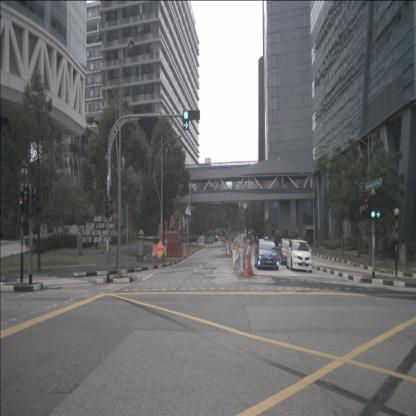human-pedestrian-adult: (255, 236, 259, 246), (249, 234, 252, 246), (244, 235, 247, 246), (252, 234, 255, 245)
movable_object-barrier: (233, 246, 245, 277), (244, 246, 253, 276), (167, 244, 182, 258), (178, 244, 186, 256), (233, 240, 238, 259), (180, 243, 187, 255), (183, 243, 186, 256), (198, 241, 204, 246), (223, 237, 227, 242), (196, 241, 199, 246), (220, 237, 223, 241)
movable_object-trafficcone: (244, 256, 249, 277), (228, 246, 232, 259)
vehicle-car: (287, 239, 313, 273), (255, 238, 280, 270), (278, 237, 297, 265), (214, 235, 219, 242)
vehicle-truck: (207, 230, 214, 244)
